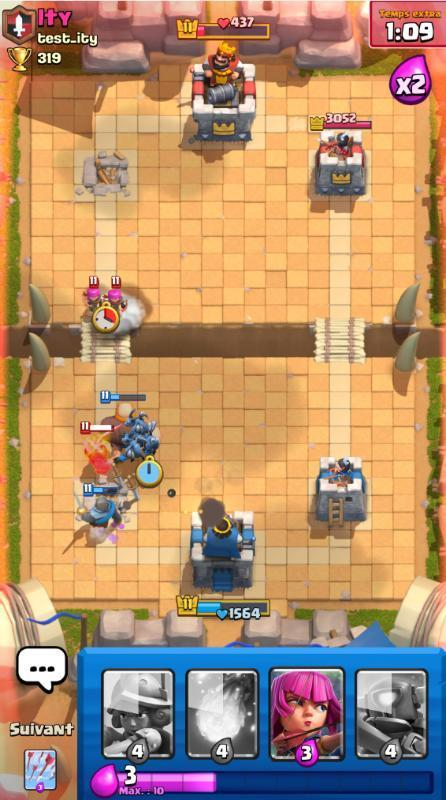enemy_archers: (80, 276, 104, 318), (105, 277, 128, 315)
player_knight: (71, 486, 127, 533)
player_minions: (129, 419, 161, 456), (116, 432, 143, 460), (124, 407, 151, 433)
